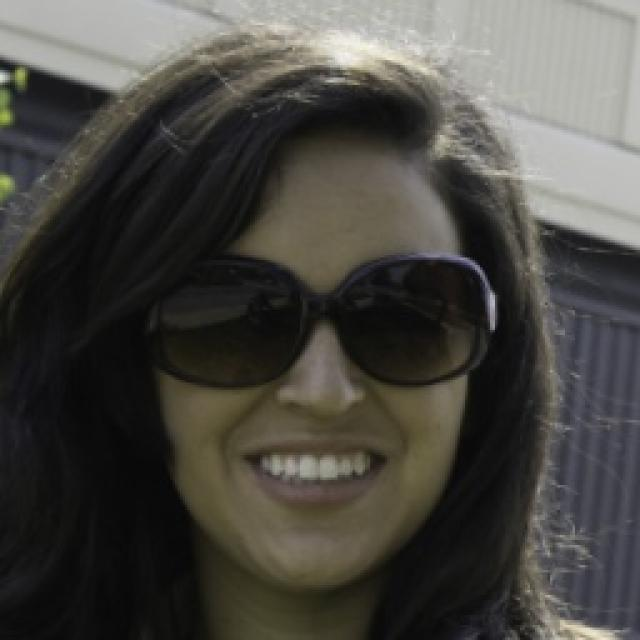glasses: (144, 237, 506, 397)
